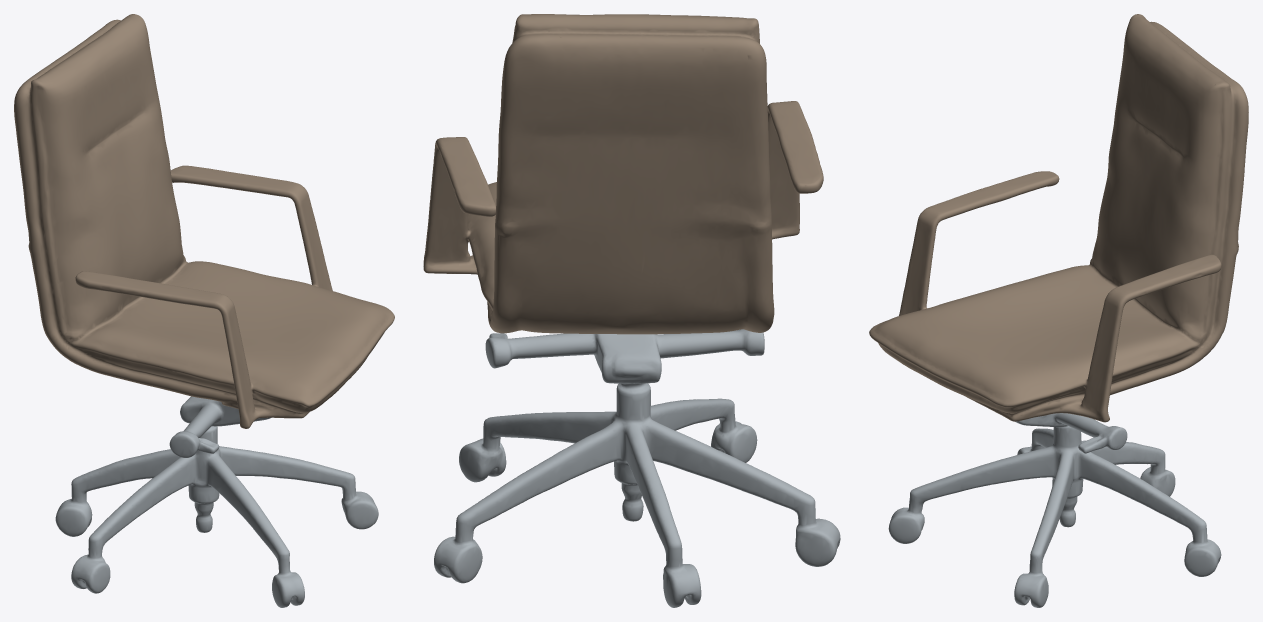
Rendered from 09_会议椅_大会议室.glb.
The picture shows the model from 3 angles, left to right: view 1: azimuth 30°, elevation 25°; view 2: azimuth 150°, elevation 25°; view 3: azimuth 270°, elevation 25°; orthographic projection. The views are drawn at different scales.
Visible parts, largest first — view 1: world; view 2: world; view 3: world.
Boxes of the visible parts, box(x1,y1,x2,y2) form: world: box(14, 14, 394, 607); world: box(423, 14, 840, 607); world: box(869, 14, 1248, 607).
Size of the model in its own units: 0.7296 by 1.07 by 0.7978.
